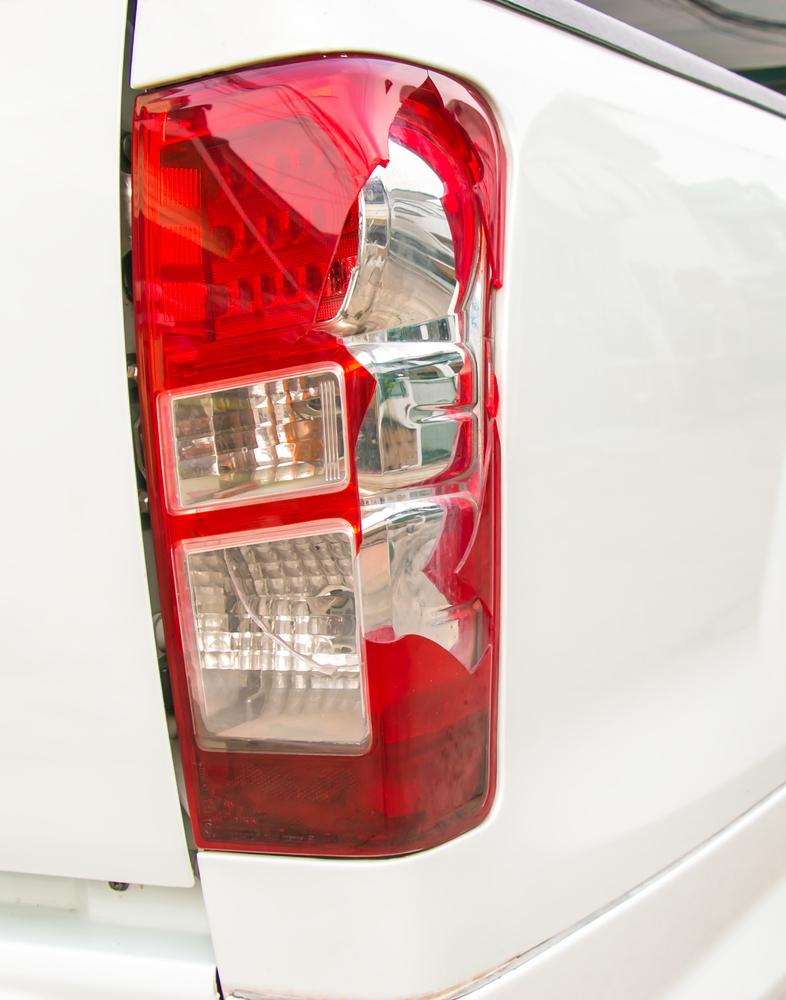lamp broken: (130, 53, 508, 858)
